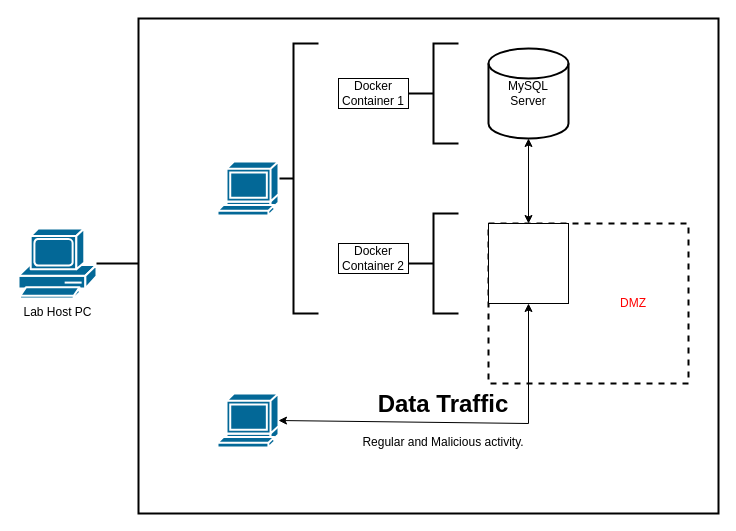
Image size: 736x531. Some labels were removed from this diagram. Each missing label, with the centre of its shape:
"VM 1 - Linux Fedora Server" goes at pixel 247 188.
"VM 2- Linux KaliLinux" goes at pixel 247 420.
"WebServer" goes at pixel 528 263.
